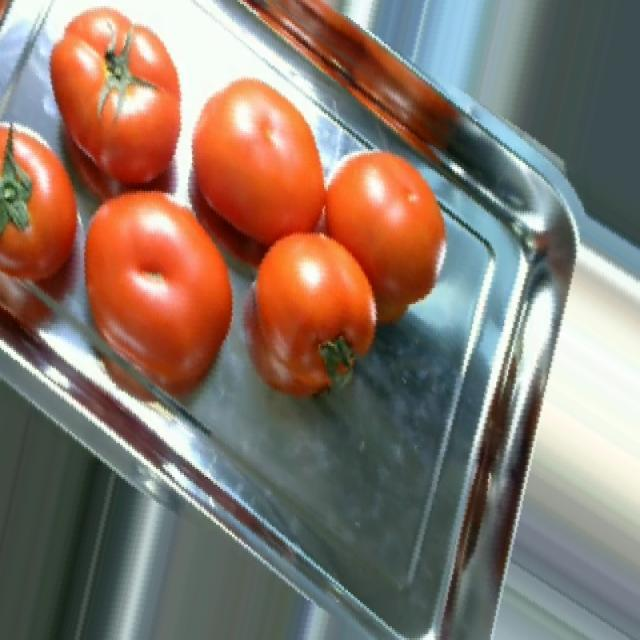kirmizi: (62, 18, 420, 354)
